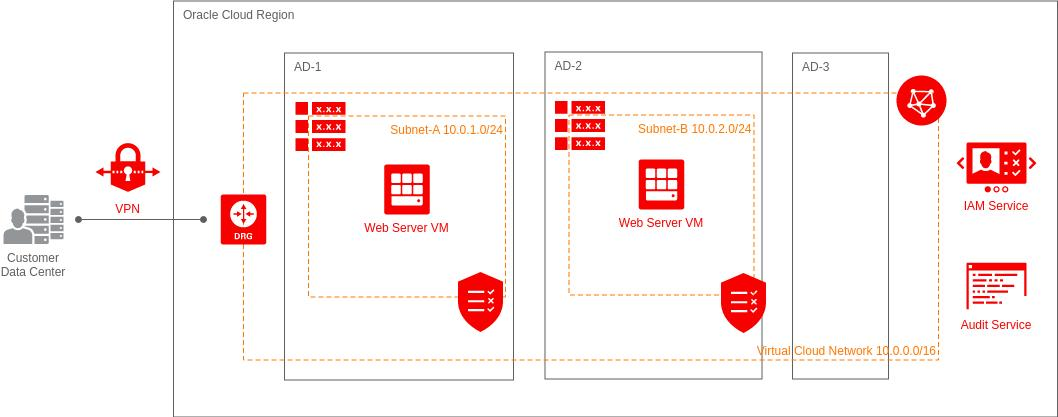Backend: (643, 162, 686, 208), (387, 167, 427, 212)
Networking: (224, 197, 265, 243)
